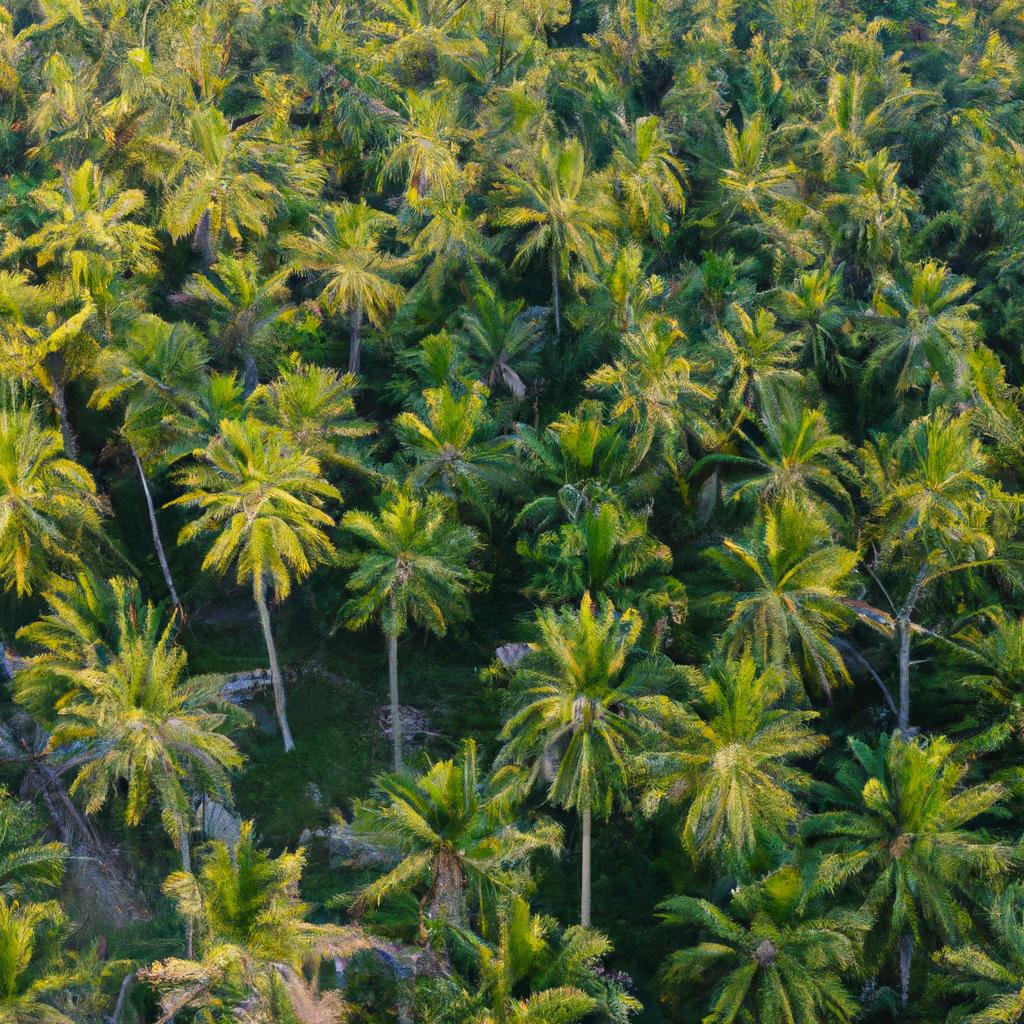coconut_tree: (820, 715, 994, 959), (51, 631, 248, 840), (681, 504, 888, 688), (501, 593, 650, 840), (662, 651, 816, 870), (158, 410, 337, 594), (322, 459, 487, 644), (640, 885, 869, 1013), (584, 318, 730, 461), (496, 139, 629, 291), (294, 212, 413, 334)
